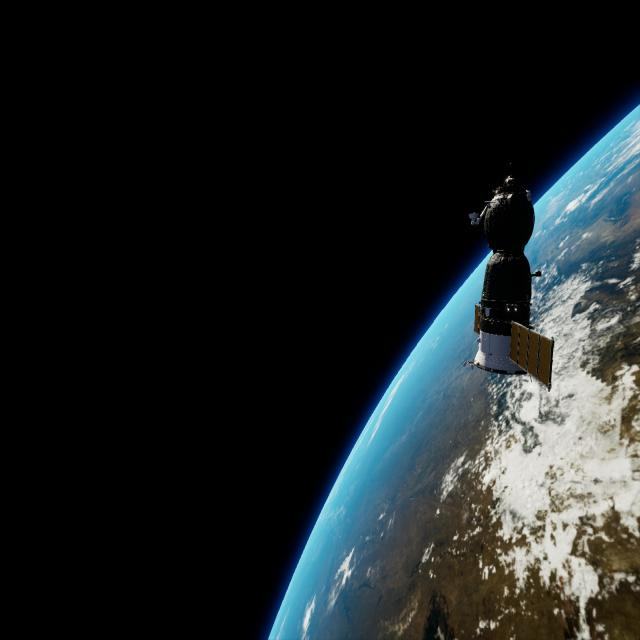Satellites revolving around earth: (266, 103, 638, 638)
